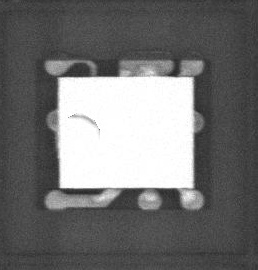DIE_INK: (64, 118, 95, 145)
